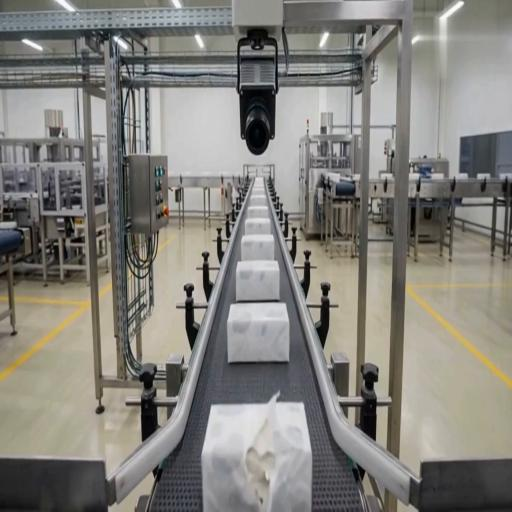defective: (198, 399, 315, 512)
good: (225, 301, 292, 368), (235, 260, 281, 302), (241, 233, 275, 262), (245, 218, 271, 234), (247, 205, 269, 218), (250, 194, 268, 207), (252, 187, 266, 195), (254, 180, 265, 186)
